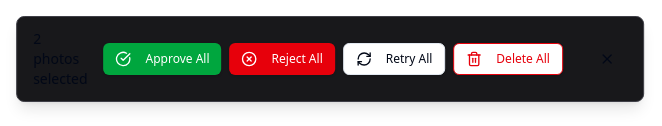
Scenario: BulkActionBar › should disable buttons while loading
# Click approve
Click the button "Approve All". click: (162, 59)
box: [104,43,222,75]
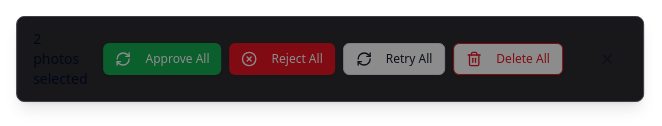
Expected: the button "Reject All" is disabled, [230,43,335,75]
Expected: the button "Retry All" is disabled, [343,43,445,75]
